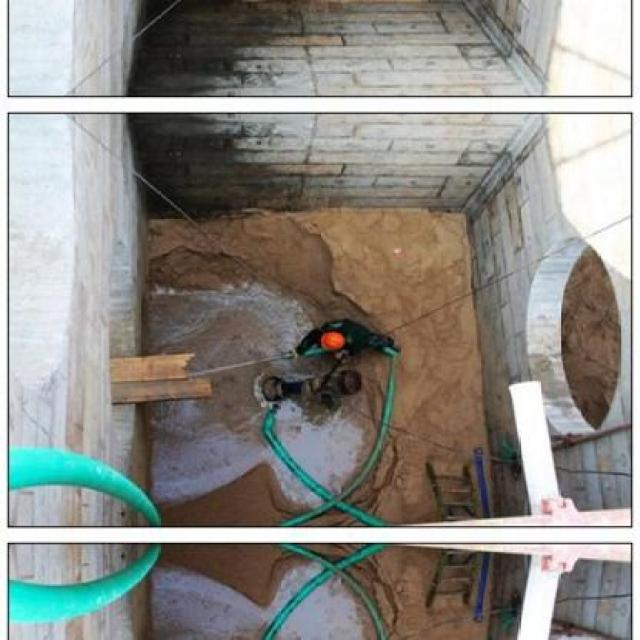helmet: (316, 324, 346, 350)
